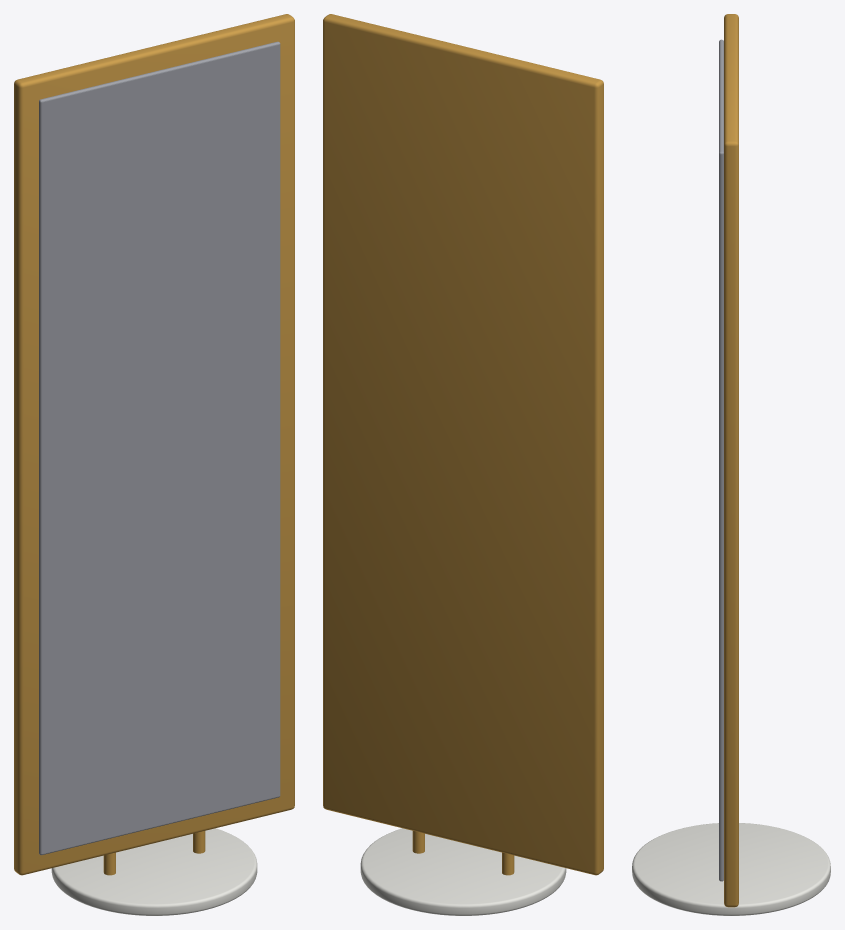
File: modern_floor_mirror.obj
The picture shows the model from 3 angles, left to right: view 1: azimuth 30°, elevation 25°; view 2: azimuth 150°, elevation 25°; view 3: azimuth 270°, elevation 25°; orthographic projection. The views are drawn at different scales.
Visible parts, largest first — view 1: glass, frame, base; view 2: frame, base; view 3: base, frame, glass.
Part boxes in pixels (x1,y1,x2,y2): glass: [39, 41, 280, 855]; frame: [14, 14, 294, 875]; base: [51, 828, 257, 915]; frame: [323, 14, 603, 875]; base: [360, 828, 566, 915]; base: [632, 823, 830, 915]; frame: [724, 14, 738, 907]; glass: [719, 39, 723, 881].
Bounding box in the file's own units: 0.62 × 1.77 × 0.4.
